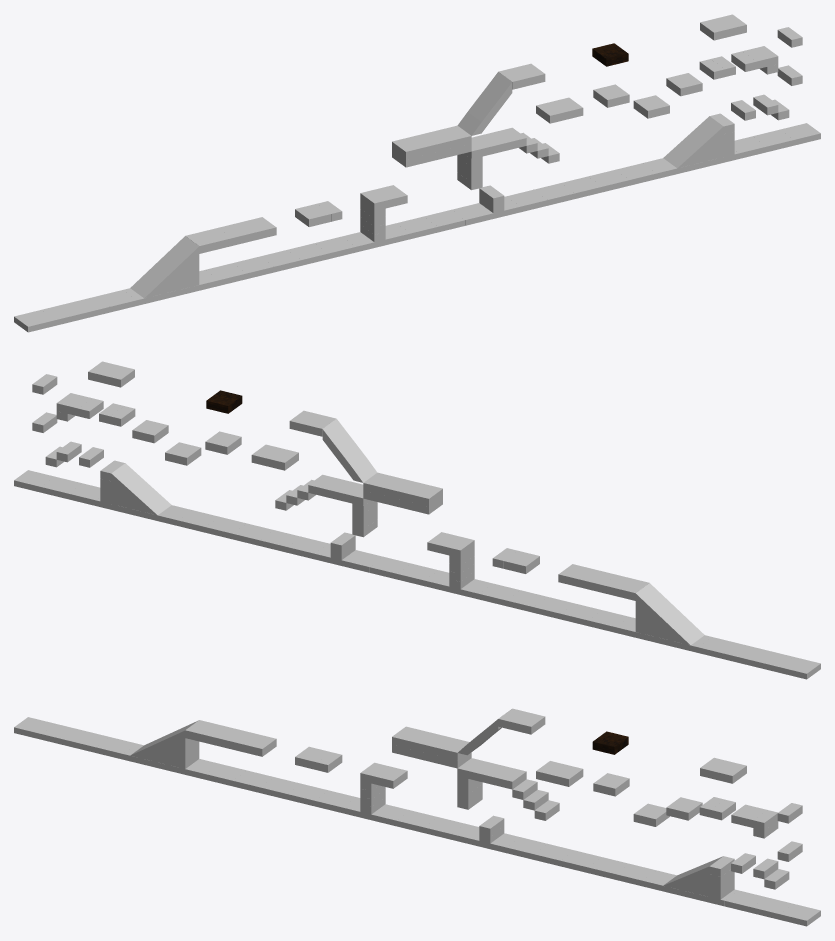
The model's file is Map_001 2.fbx.
The picture shows the model from 3 angles, top to bottom: view 1: azimuth 30°, elevation 25°; view 2: azimuth 150°, elevation 25°; view 3: azimuth 330°, elevation 25°; orthographic projection.
Visible parts, largest first — view 1: group1_polySurface11, polySurface52, polySurface12, polySurface53, polySurface205, polySurface200; view 2: group1_polySurface11, polySurface52, polySurface12, polySurface53, polySurface205, polySurface200; view 3: group1_polySurface11, polySurface52, polySurface12, polySurface53, polySurface200, polySurface205.
Boxes of the visible parts, box(x1,y1,x2,y2) form: group1_polySurface11: box(185, 14, 802, 253); polySurface52: box(14, 123, 820, 332); polySurface12: box(130, 236, 199, 298); polySurface53: box(663, 116, 723, 168); polySurface205: box(457, 71, 512, 135); polySurface200: box(592, 43, 628, 66); group1_polySurface11: box(32, 361, 649, 600); polySurface52: box(14, 470, 820, 679); polySurface12: box(635, 583, 704, 645); polySurface53: box(111, 463, 171, 515); polySurface205: box(322, 418, 377, 482); polySurface200: box(206, 390, 242, 413); group1_polySurface11: box(185, 708, 802, 899); polySurface52: box(14, 717, 820, 926); polySurface12: box(130, 720, 199, 768); polySurface53: box(663, 856, 722, 896); polySurface200: box(592, 731, 628, 754); polySurface205: box(458, 709, 511, 755).
Size of the model in its own units: 15772 by 2518 by 492.
